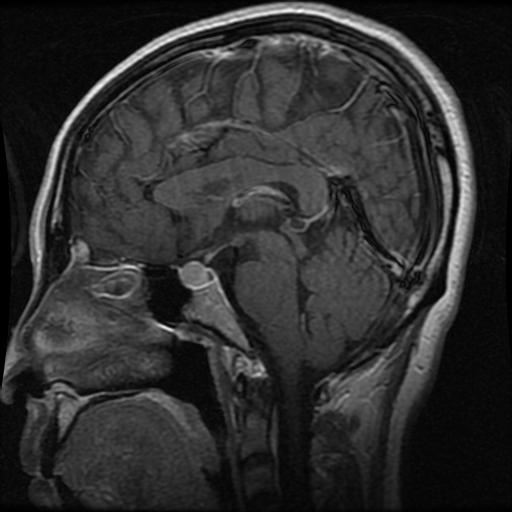Pituirity_tumour: (179, 261, 209, 286)
